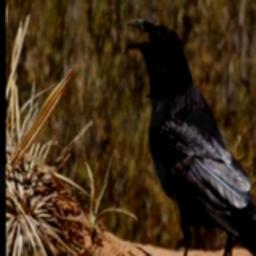Crow: (127, 18, 256, 256)
